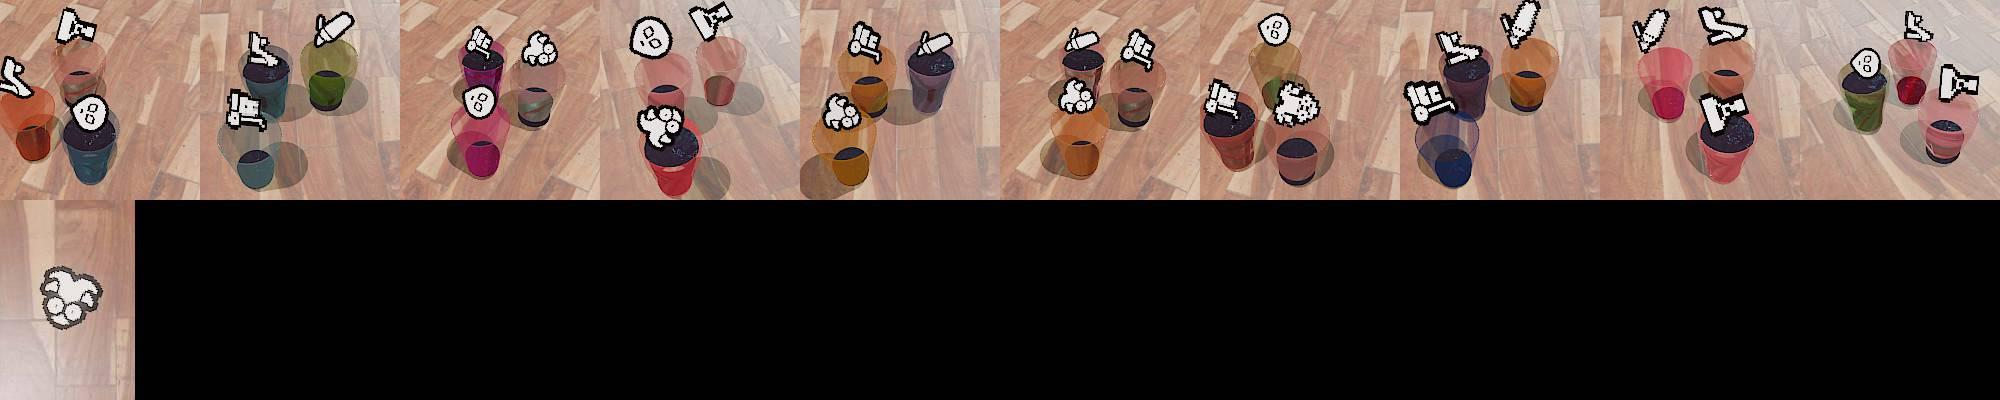icon: (38, 265, 102, 330), (1402, 78, 1457, 127), (1269, 80, 1321, 125), (636, 103, 685, 149), (1699, 92, 1749, 137), (1500, 0, 1542, 51), (1698, 5, 1750, 46), (627, 16, 674, 61), (1632, 7, 1671, 55), (226, 87, 268, 131), (1434, 30, 1482, 68), (688, 1, 733, 41), (1204, 78, 1244, 120), (55, 7, 99, 45), (1939, 64, 1983, 102), (1119, 28, 1157, 71), (314, 10, 356, 47), (460, 82, 499, 121), (821, 92, 861, 130), (69, 94, 110, 131), (847, 20, 883, 62), (1058, 77, 1097, 115), (520, 29, 559, 67), (0, 55, 34, 98), (1257, 13, 1292, 48), (913, 30, 954, 59), (464, 24, 495, 60), (1851, 46, 1883, 80), (247, 30, 277, 66), (1903, 10, 1934, 44), (1065, 26, 1101, 53)
